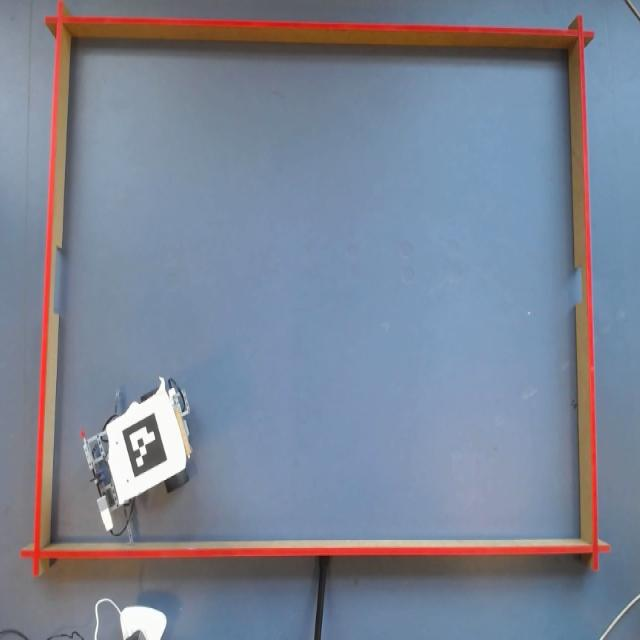ev3: (80, 377, 194, 532)
